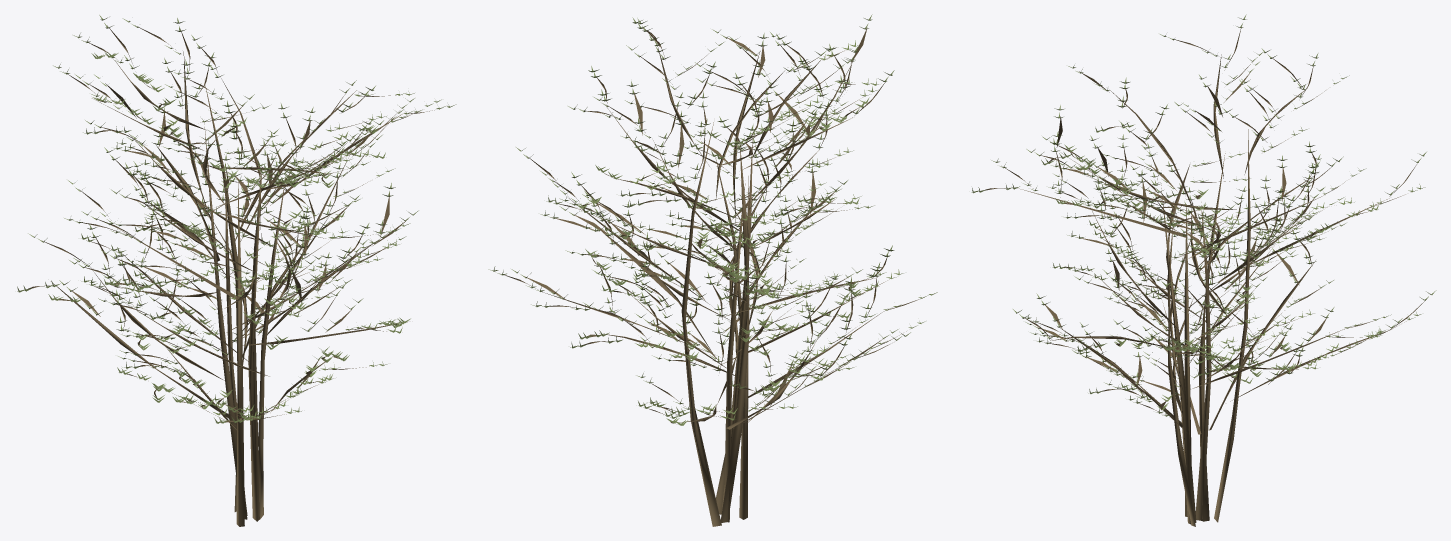
The model's file is Bruyere_0_LOD2.fbx.
The picture shows the model from 3 angles, left to right: view 1: azimuth 30°, elevation 25°; view 2: azimuth 150°, elevation 25°; view 3: azimuth 270°, elevation 25°; orthographic projection. The views are drawn at different scales.
Parts seen in each view (by area): view 1: Bruyere_0_LOD2; view 2: Bruyere_0_LOD2; view 3: Bruyere_0_LOD2.
Part boxes in pixels (x1=…): Bruyere_0_LOD2: x1=17, y1=15, x2=456, y2=526; Bruyere_0_LOD2: x1=488, y1=14, x2=937, y2=526; Bruyere_0_LOD2: x1=971, y1=14, x2=1436, y2=526.
Bounding box in the file's own units: 226 × 281 × 276.
